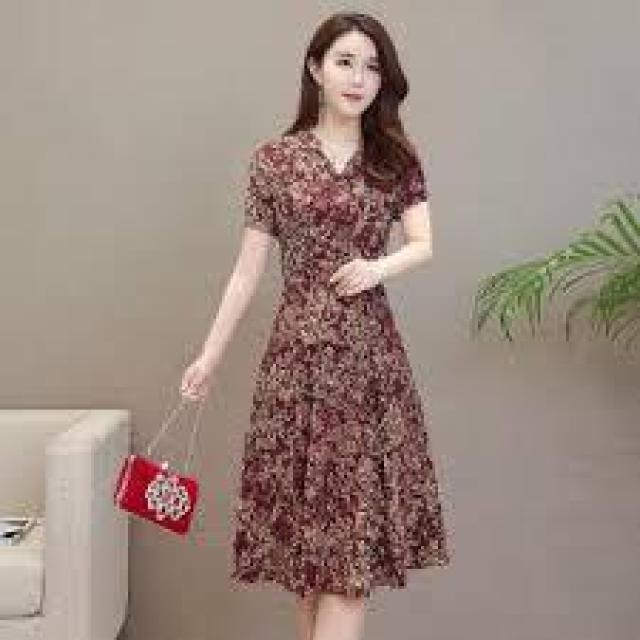dress: (232, 124, 456, 607)
